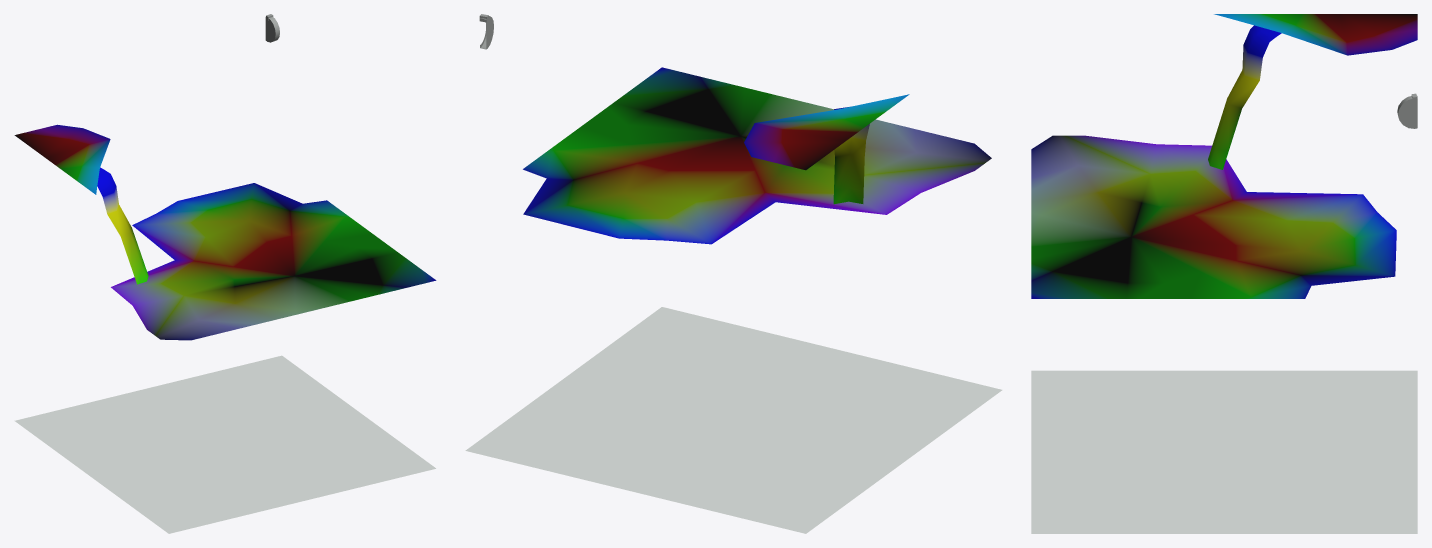
3 renders of one model, left to right at view 1: azimuth 30°, elevation 25°; view 2: azimuth 150°, elevation 25°; view 3: azimuth 270°, elevation 25°, orthographic. The views are drawn at different scales.
Parts seen in each view (by area): view 1: G:\FFXIV-MapTools\exports\w1f5\bg\ffxiv\wil_w1\fld\w1f5\bgpl (×2); view 2: G:\FFXIV-MapTools\exports\w1f5\bg\ffxiv\wil_w1\fld\w1f5\bgpl (×2); view 3: G:\FFXIV-MapTools\exports\w1f5\bg\ffxiv\wil_w1\fld\w1f5\bgpl (×3).
Boxes of the visible parts, left/top/right/bottom form: G:\FFXIV-MapTools\exports\w1f5\bg\ffxiv\wil_w1\fld\w1f5\bgpl (×2): left=14, top=124, right=436, bottom=533; G:\FFXIV-MapTools\exports\w1f5\bg\ffxiv\wil_w1\fld\w1f5\bgpl (×2): left=465, top=67, right=1002, bottom=533; G:\FFXIV-MapTools\exports\w1f5\bg\ffxiv\wil_w1\fld\w1f5\bgpl (×3): left=1031, top=14, right=1417, bottom=533.
Size of the model in its own units: 128 by 157 by 128.
